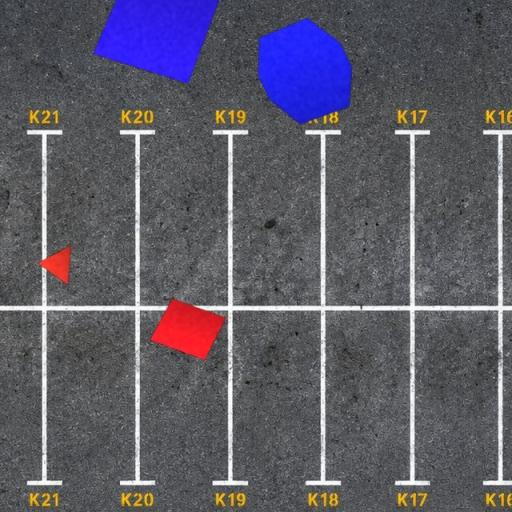BLUE_SQUARE: (92, 0, 230, 84)
RED_SQUARE: (149, 298, 226, 360)
